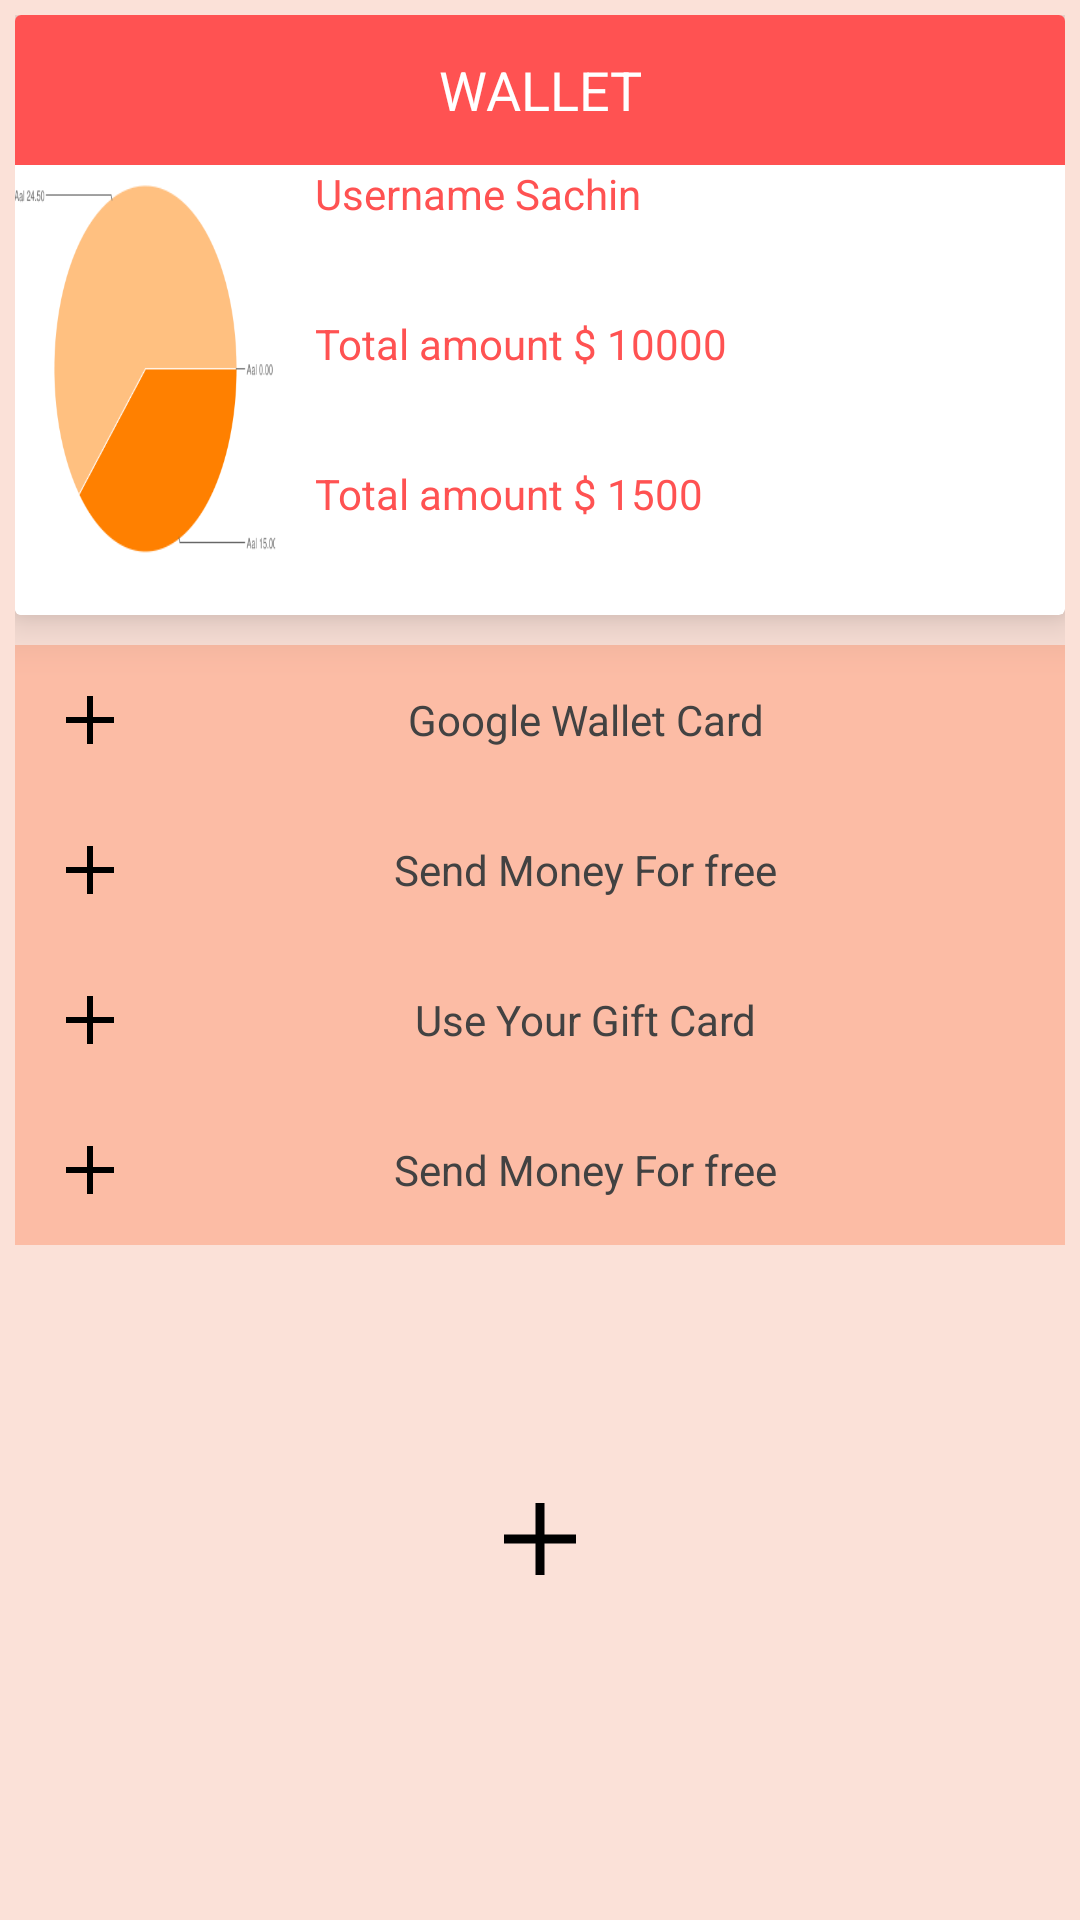

Icon click points for this 1080x1920 phone screenshot, format (x,y):
plus: (90,720), (90,870), (90,1020), (90,1170), (540,1539)
